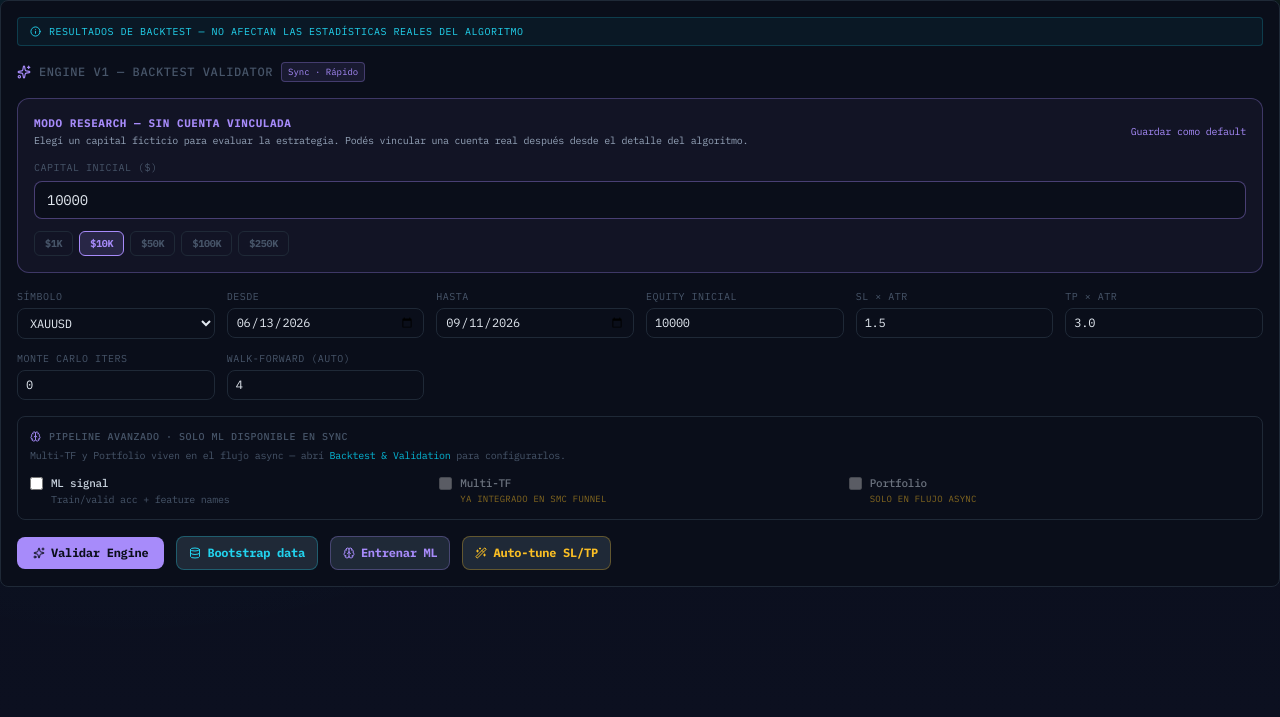
Scenario: EngineBacktestPanel — advanced toggles (Gap #1) › renders the advanced results card when response.advanced is populated
This screenshot has width=1280, height=717.
Click the checkbox with test id "toggle-use-ml". click: x=36, y=484
box: [30, 477, 43, 490]
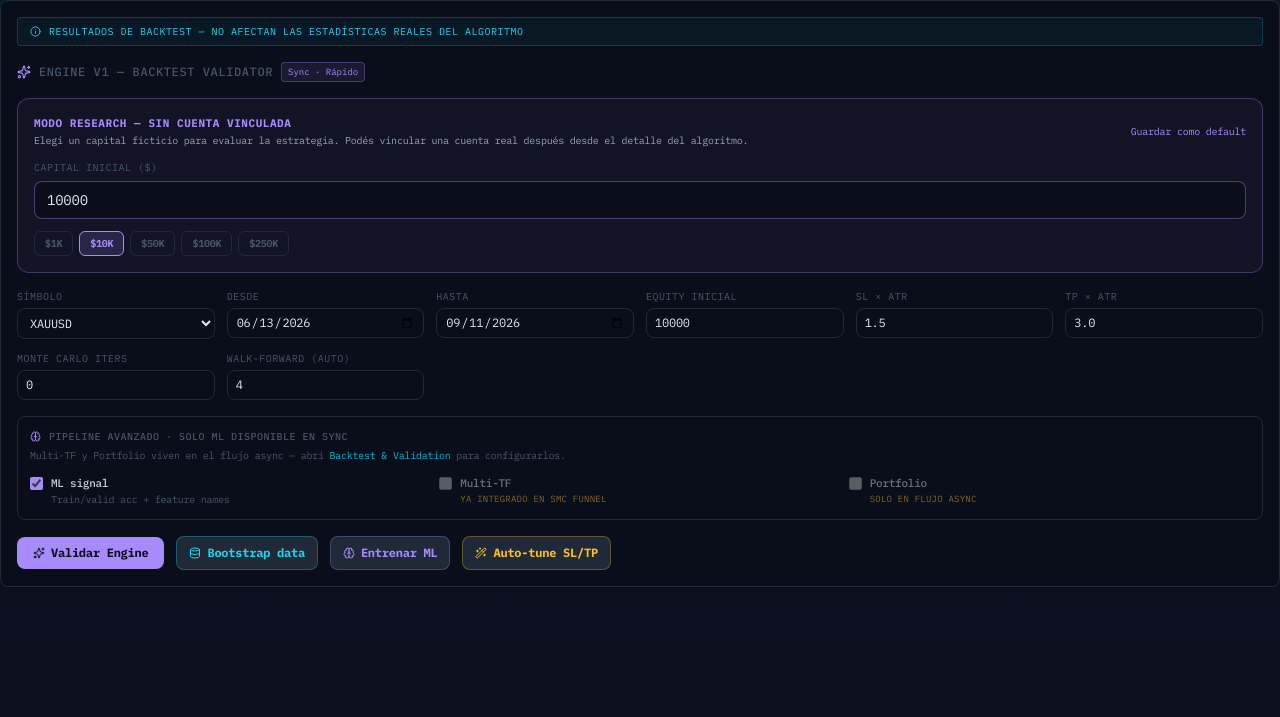
Click the button "Validar Engine". click: x=91, y=552
box: [17, 536, 164, 568]
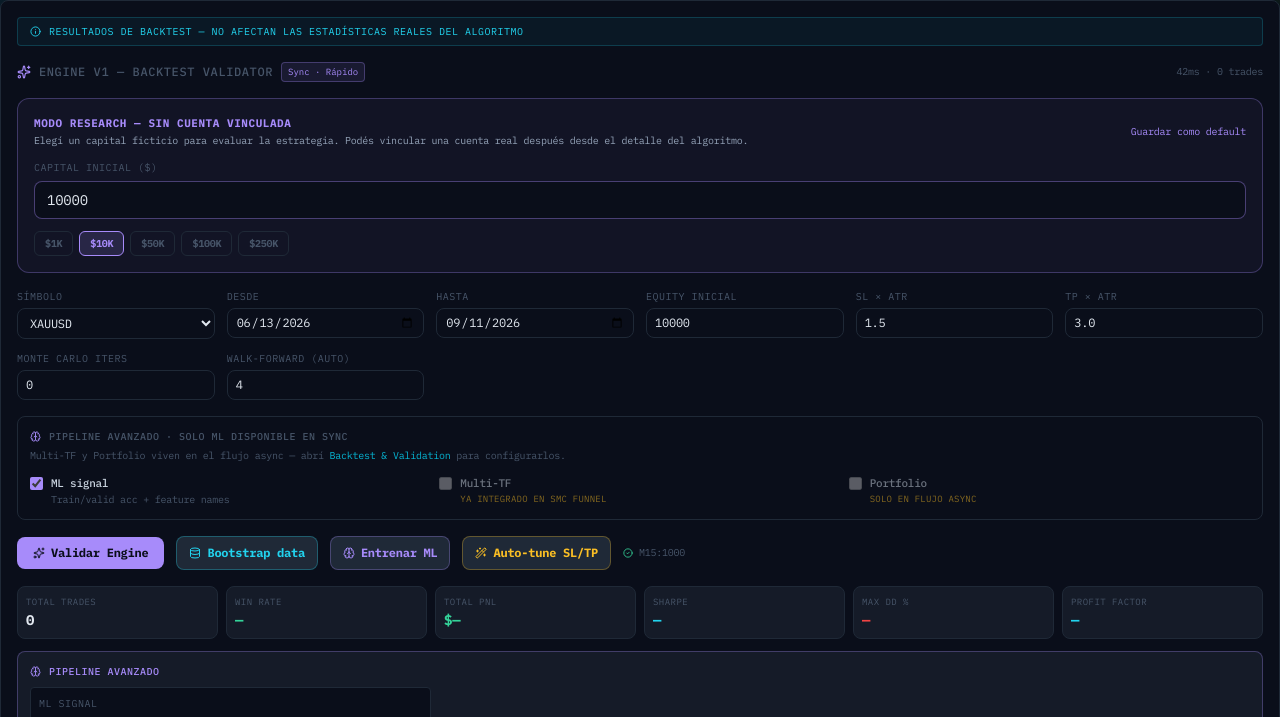
Expected: the text "ML Signal" is shown, [39, 697, 98, 710]
